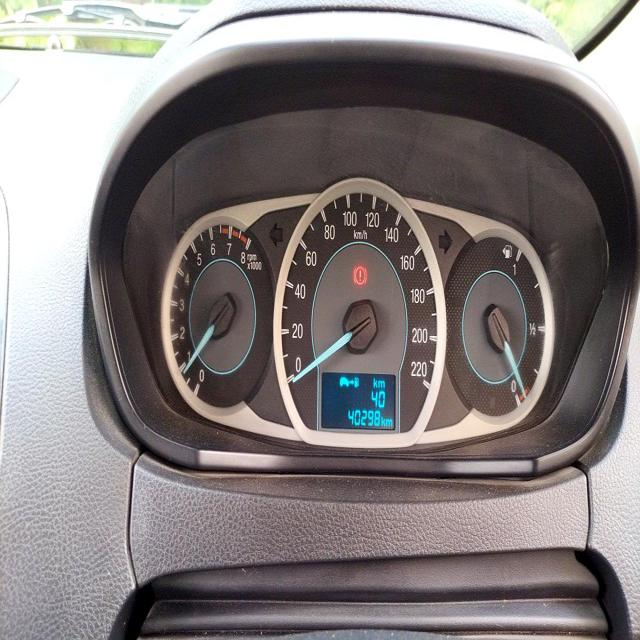odometer: (345, 406, 381, 431)
